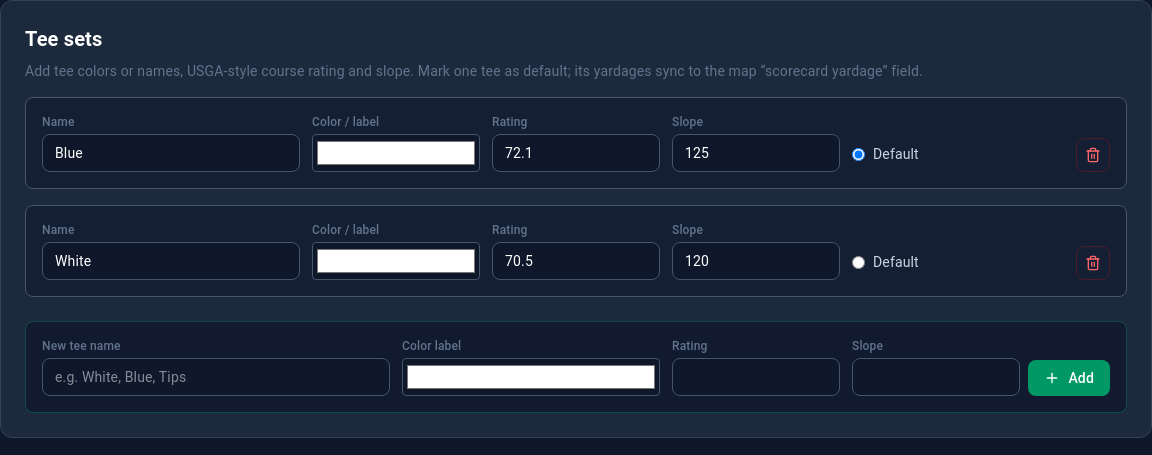
Test: CourseTeeSets Component › Busy State › disables inputs and buttons when busy
The image size is (1152, 455).
Type "Tips" into the field labelled "New tee name" at (216, 377), box [42,358,390,396]
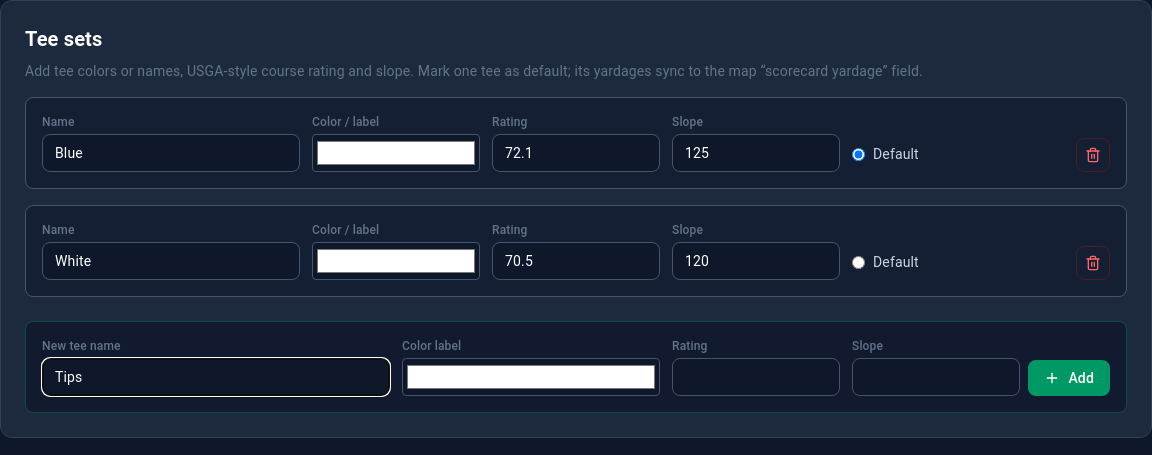
Click the button "Add" at (1069, 378), box [1028,360,1110,396]
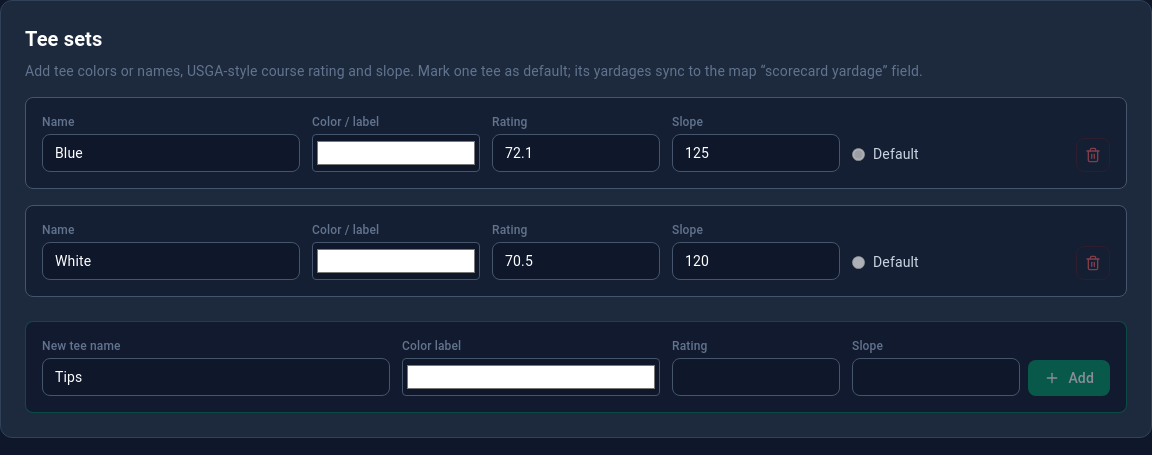
Check: the 1st field labelled "Name" is disabled, box [42,134,300,172]
Check: the button "Add" is disabled, box [1028,360,1110,396]
